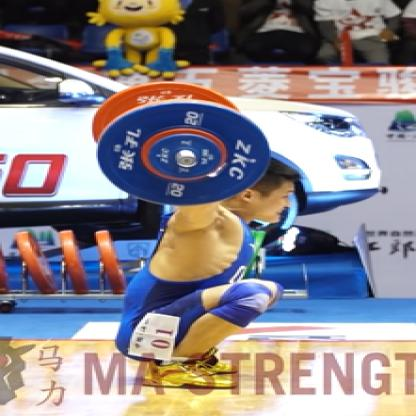Barbell: (93, 98, 277, 208)
